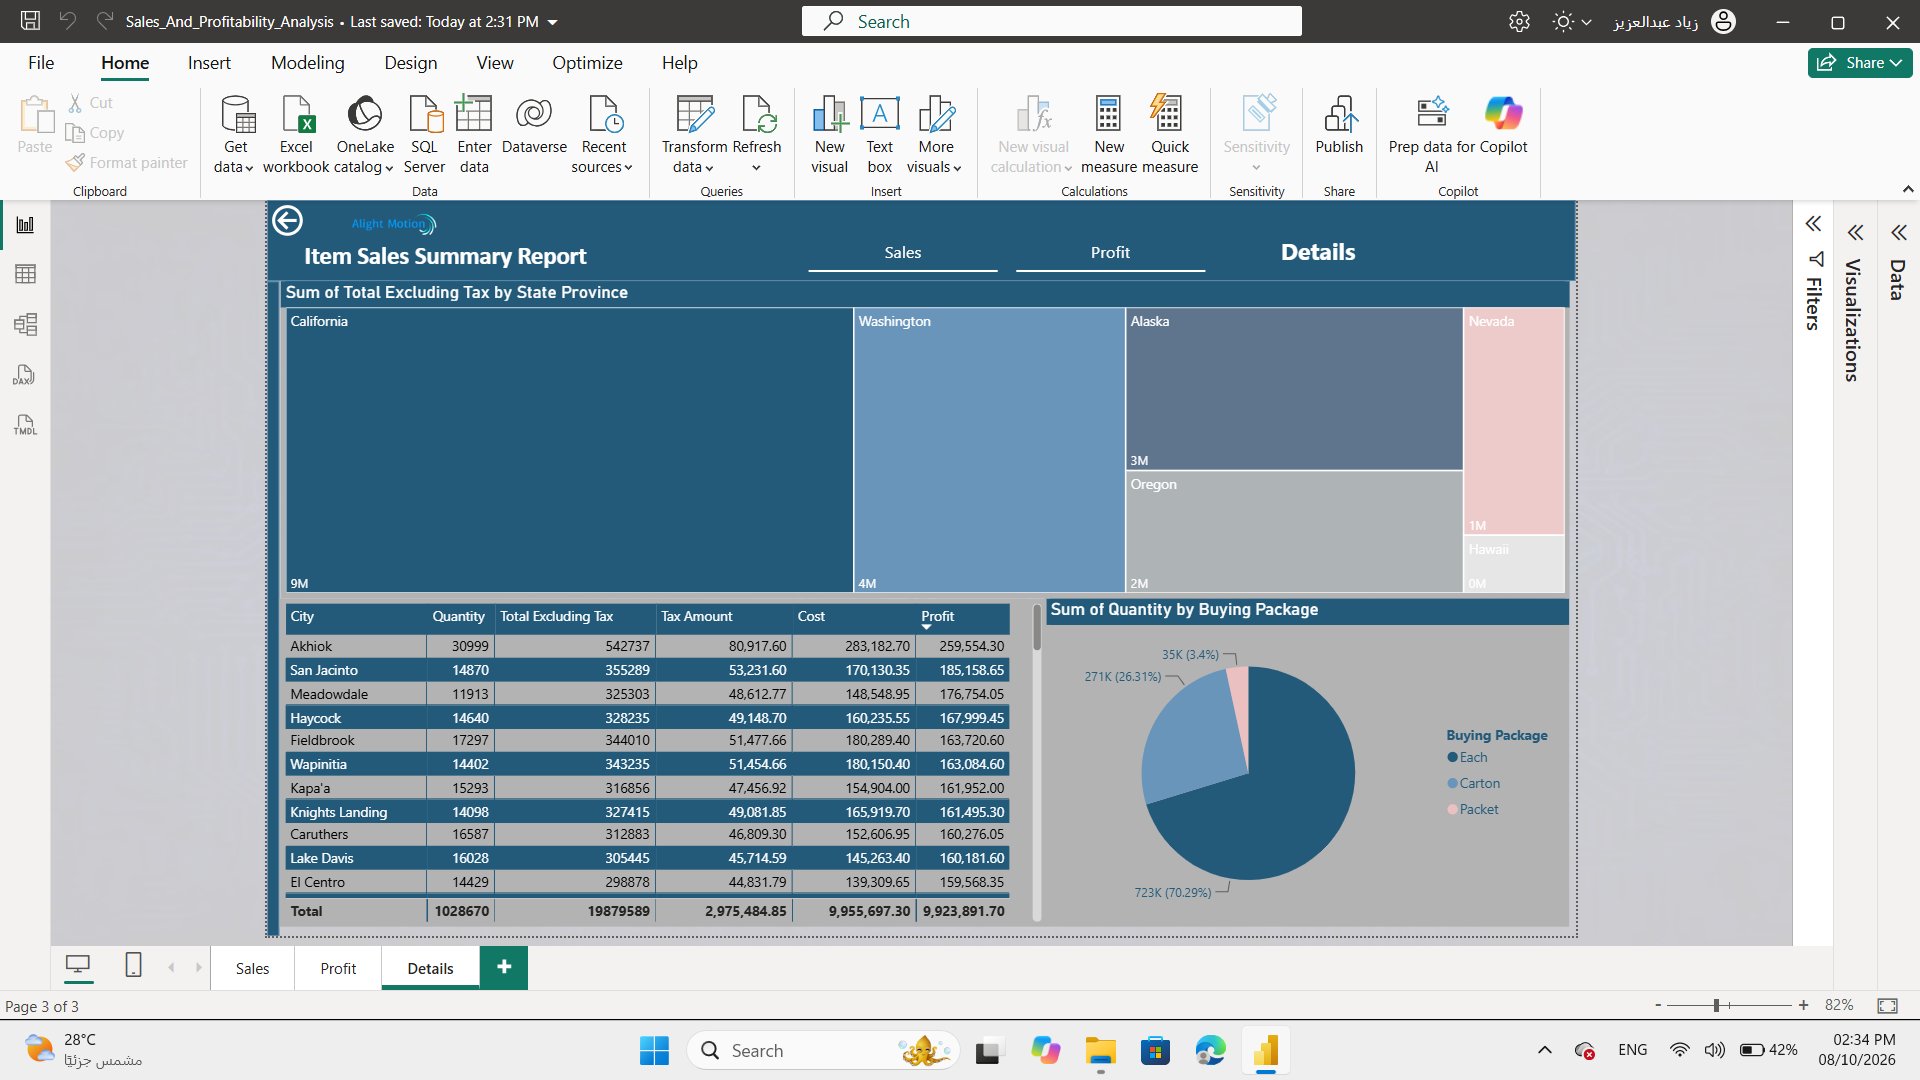

Layout of this report page (visuals, bound fields, positions):
{"tool":"powerbi","page":{"name":"Details","canvas":[1280,720],"ordinal":2},"visuals":[{"type":"shape","box":[0,0,1280.3,79.5],"z":0},{"type":"shape","box":[0,79.5,12.2,640.8],"z":1000},{"type":"image","box":[6.1,0,237.2,47.7],"z":2000},{"type":"textbox","box":[31.8,34.2,292.3,40.4],"z":3000},{"type":"actionButton","box":[0,0,100,40],"z":4000},{"type":"pageNavigator","box":[525.8,24.5,600.4,50.1],"z":5000},{"type":"treemap","fields":{"Group":["DimCity.State Province"],"Values":["Sum(FactSale.Total Excluding Tax)"]},"box":[13.7,79.6,1261.1,310.1],"z":6000},{"type":"pieChart","fields":{"Category":["DimStockItem.Buying Package"],"Y":["Sum(FactSale.Quantity)"]},"box":[761.6,389.7,511.8,321.1],"z":7000},{"type":"tableEx","fields":{"Values":["DimCity.City","Sum(FactSale.Quantity)","Sum(FactSale.Total Excluding Tax)","Sum(FactSale.Tax Amount)","Sum(FactSale.Costs)","Sum(FactSale.Profit)"]},"box":[11.7,389.6,750.6,320.8],"z":8000}]}

Visuals, with their boxes on the page's 1280x720 design canvas (x1, y1, x2, y2). These are canvas units, not pixel positions in the 1920x1080 screenshot, which may show the page scaled, cropped or inside an application window:
shape: (left=0, top=0, right=1280, bottom=80)
shape: (left=0, top=80, right=12, bottom=720)
image: (left=6, top=0, right=243, bottom=48)
textbox: (left=32, top=34, right=324, bottom=75)
actionButton: (left=0, top=0, right=100, bottom=40)
pageNavigator: (left=526, top=24, right=1126, bottom=75)
treemap - DimCity.State Province x Sum(FactSale.Total Excluding Tax): (left=14, top=80, right=1275, bottom=390)
pieChart - DimStockItem.Buying Package x Sum(FactSale.Quantity): (left=762, top=390, right=1273, bottom=711)
tableEx - DimCity.City x Sum(FactSale.Quantity): (left=12, top=390, right=762, bottom=710)
